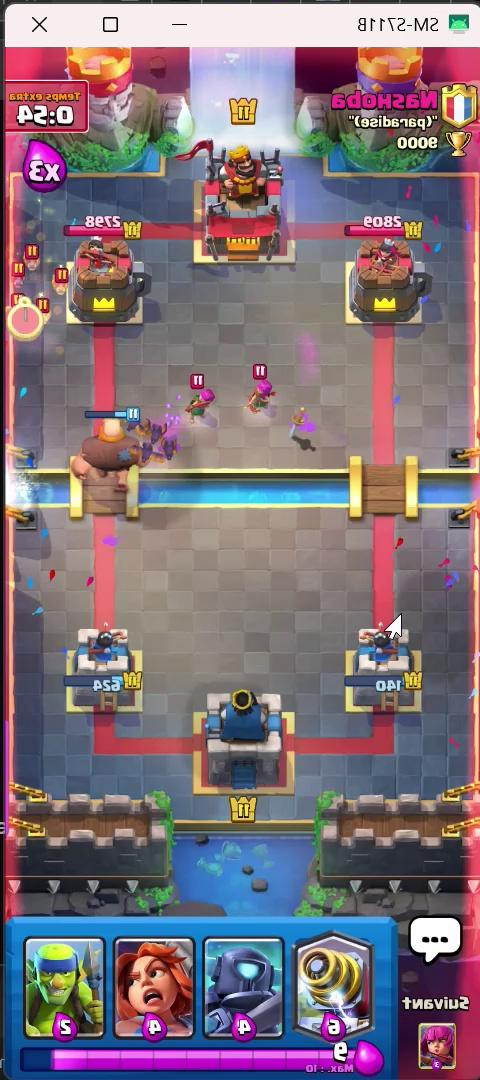archere: (181, 372, 223, 431), (239, 363, 282, 415)
bat: (126, 441, 158, 471), (24, 246, 52, 277), (158, 433, 184, 466), (146, 406, 167, 443), (1, 258, 26, 288), (3, 292, 28, 322), (118, 411, 148, 435), (37, 297, 57, 331), (56, 268, 68, 291)
